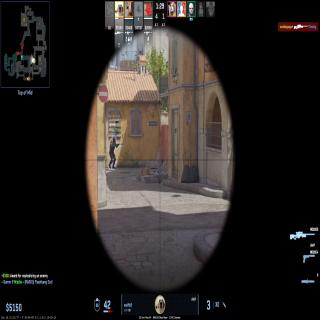CT-Body: (109, 134, 117, 169)
CT-Head: (113, 134, 116, 142)
T-Head: (162, 160, 164, 163)
